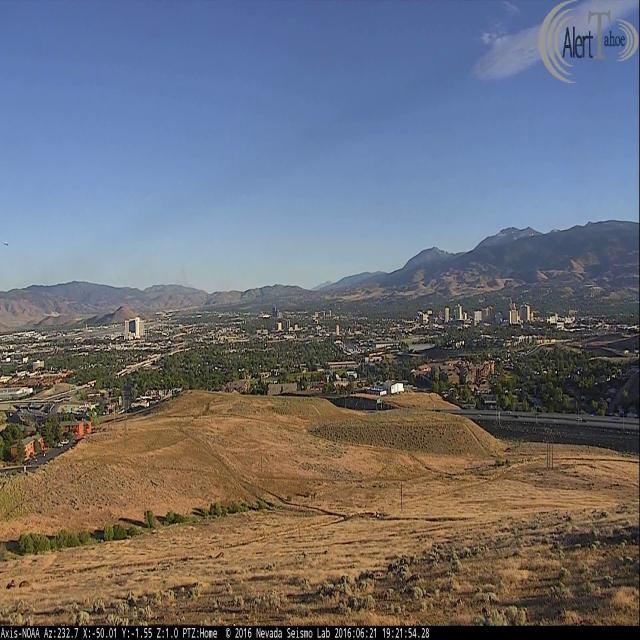smoke: (175, 268, 193, 288)
